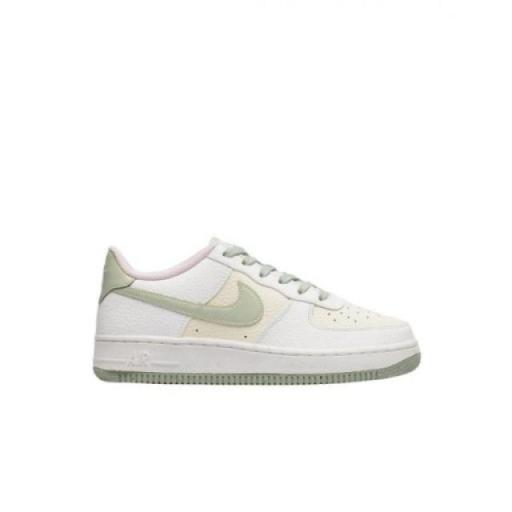Nike: (110, 282, 270, 330)
